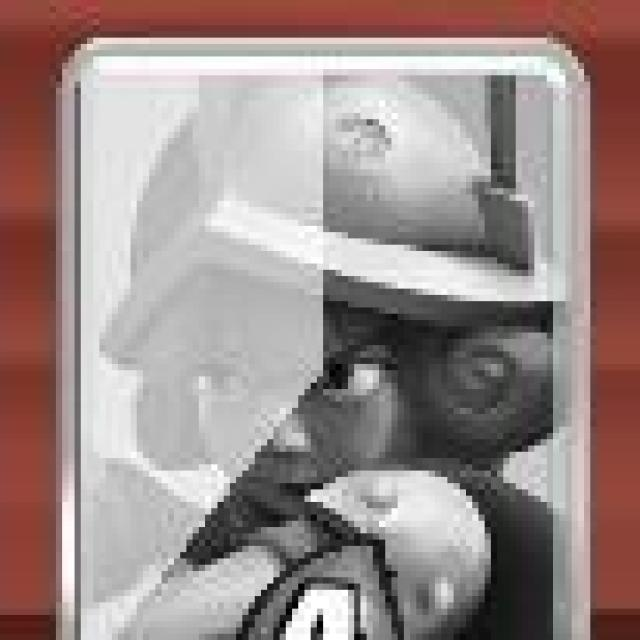Musketeer: (62, 46, 597, 640)
